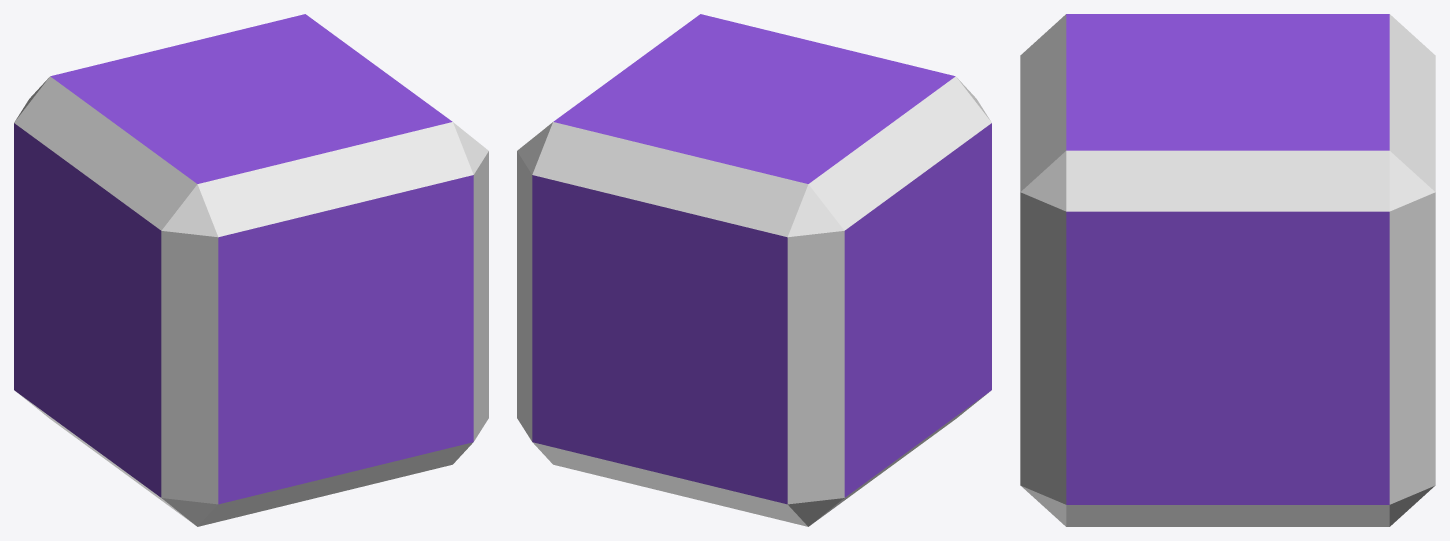
The model's file is BevelledBox.fbx.
The picture shows the model from 3 angles, left to right: view 1: azimuth 30°, elevation 25°; view 2: azimuth 150°, elevation 25°; view 3: azimuth 270°, elevation 25°; orthographic projection. The views are drawn at different scales.
Visible parts, largest first — view 1: Cube; view 2: Cube; view 3: Cube.
Boxes of the visible parts, x1,y1,x2,y2 form: Cube: (14, 14, 488, 526); Cube: (517, 14, 991, 526); Cube: (1020, 14, 1435, 526).
Size of the model in its own units: 200 by 200 by 200.
